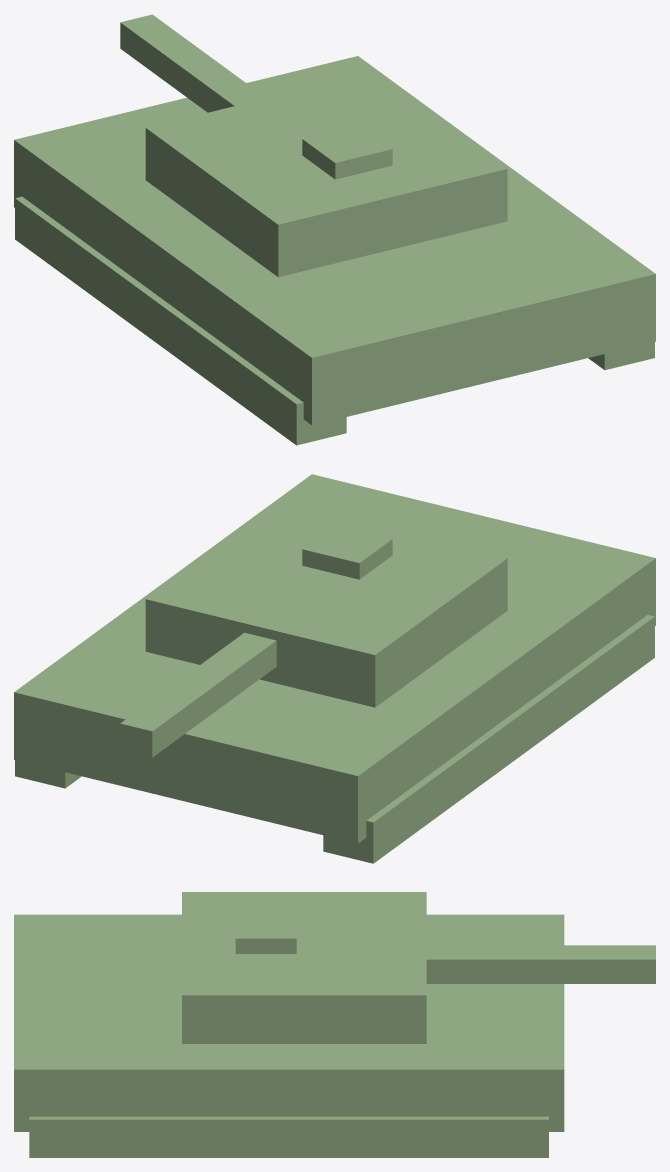
The model's file is low-poly-tank.glb.
3 views of the same model, one above another, from view 1: azimuth 30°, elevation 25°; view 2: azimuth 150°, elevation 25°; view 3: azimuth 270°, elevation 25° (orthographic). The views are drawn at different scales.
Visible parts, largest first — view 1: LowPolyTank; view 2: LowPolyTank; view 3: LowPolyTank.
Part boxes in pixels (bbox=[...]): LowPolyTank: bbox=[14, 14, 655, 445]; LowPolyTank: bbox=[14, 474, 655, 863]; LowPolyTank: bbox=[14, 892, 655, 1157].
Bounding box in the file's own units: 5 × 2.18 × 8.4.
